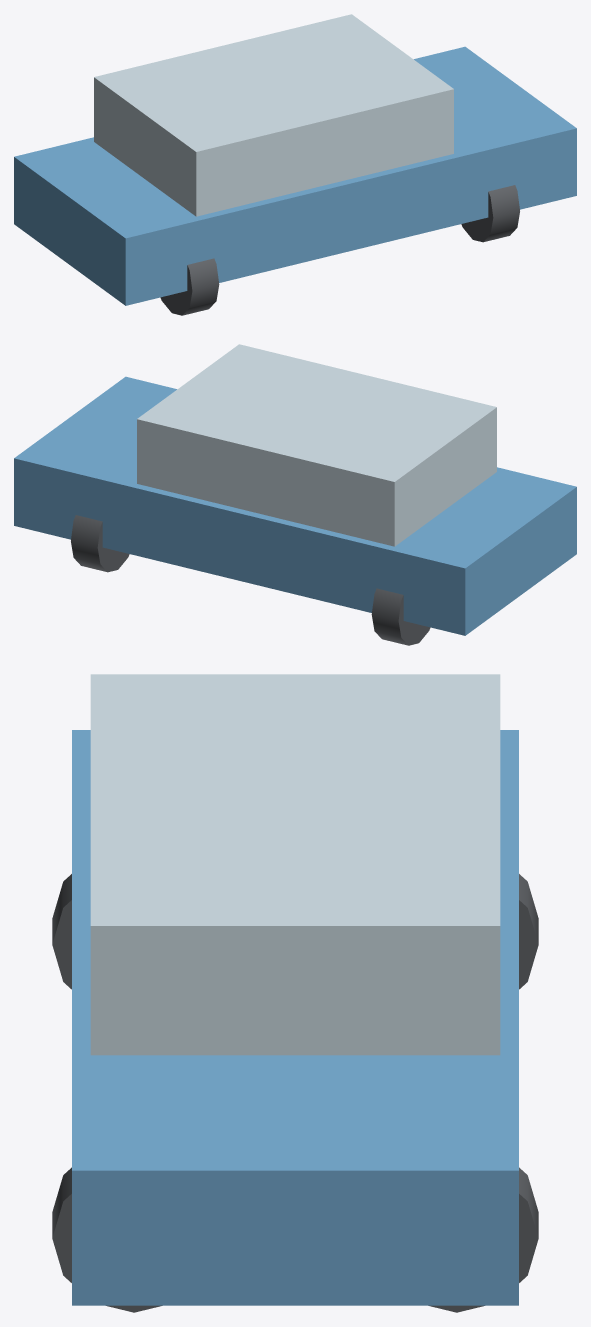
The model's file is Car.glb.
3 renders of one model, top to bottom at view 1: azimuth 30°, elevation 25°; view 2: azimuth 150°, elevation 25°; view 3: azimuth 270°, elevation 25°, orthographic. The views are drawn at different scales.
Parts seen in each view (by area): view 1: model; view 2: model; view 3: model.
Part boxes in pixels (x1,y1,x2,y2): model: [14, 14, 576, 315]; model: [14, 344, 576, 645]; model: [52, 674, 538, 1312].
Bounding box in the file's own units: 4.2 × 1.48 × 1.96.
